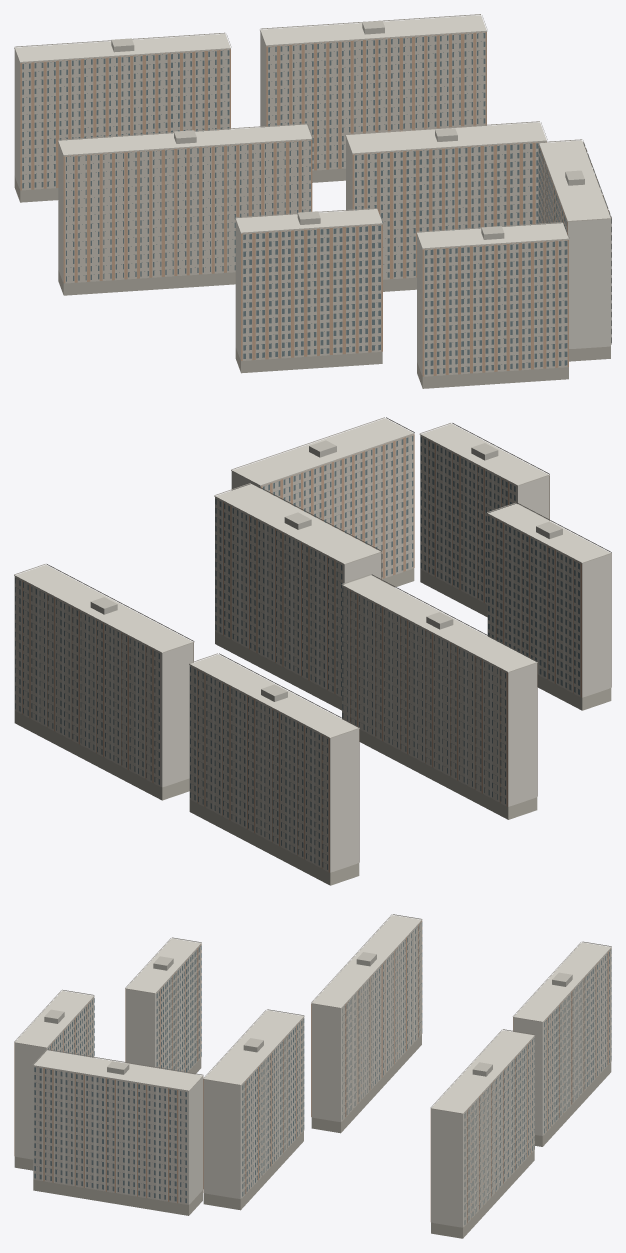
Rendered from representative-a13822902.glb.
3 renders of one model, top to bottom at view 1: azimuth 30°, elevation 25°; view 2: azimuth 150°, elevation 25°; view 3: azimuth 270°, elevation 25°, orthographic. The views are drawn at different scales.
Parts seen in each view (by area): view 1: A13822902_trim002, A13822902_accent002, A13822902_glass002, A13822902_wall002, A13822902_base002, A13822902_roof002; view 2: A13822902_trim002, A13822902_wall002, A13822902_glass002, A13822902_accent002, A13822902_base002, A13822902_roof002; view 3: A13822902_wall002, A13822902_trim002, A13822902_glass002, A13822902_accent002, A13822902_base002, A13822902_roof002.
Boxes of the visible parts, <box> form: A13822902_trim002: <box>14,14,611,376</box>; A13822902_accent002: <box>20,32,609,376</box>; A13822902_glass002: <box>22,33,611,374</box>; A13822902_wall002: <box>14,15,610,375</box>; A13822902_base002: <box>14,168,610,388</box>; A13822902_roof002: <box>111,20,584,239</box>; A13822902_trim002: <box>14,417,611,871</box>; A13822902_wall002: <box>14,418,611,872</box>; A13822902_glass002: <box>15,436,579,869</box>; A13822902_accent002: <box>22,434,611,872</box>; A13822902_base002: <box>14,568,611,885</box>; A13822902_roof002: <box>90,440,562,701</box>; A13822902_wall002: <box>14,915,611,1227</box>; A13822902_trim002: <box>14,914,611,1226</box>; A13822902_glass002: <box>34,922,611,1224</box>; A13822902_accent002: <box>14,921,611,1222</box>; A13822902_base002: <box>14,1035,611,1238</box>; A13822902_roof002: <box>44,952,572,1076</box>.
Size of the model in its own units: 154 by 46.8 by 195.
